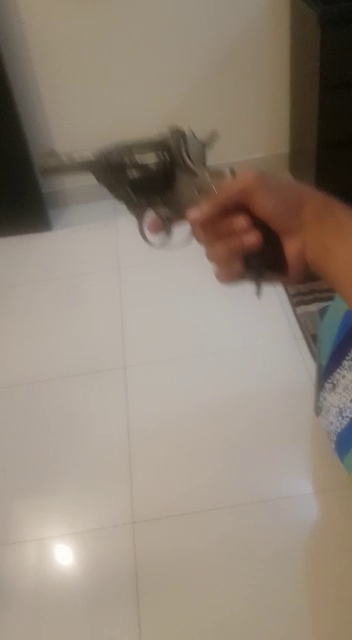handgun: (34, 136, 293, 289)
